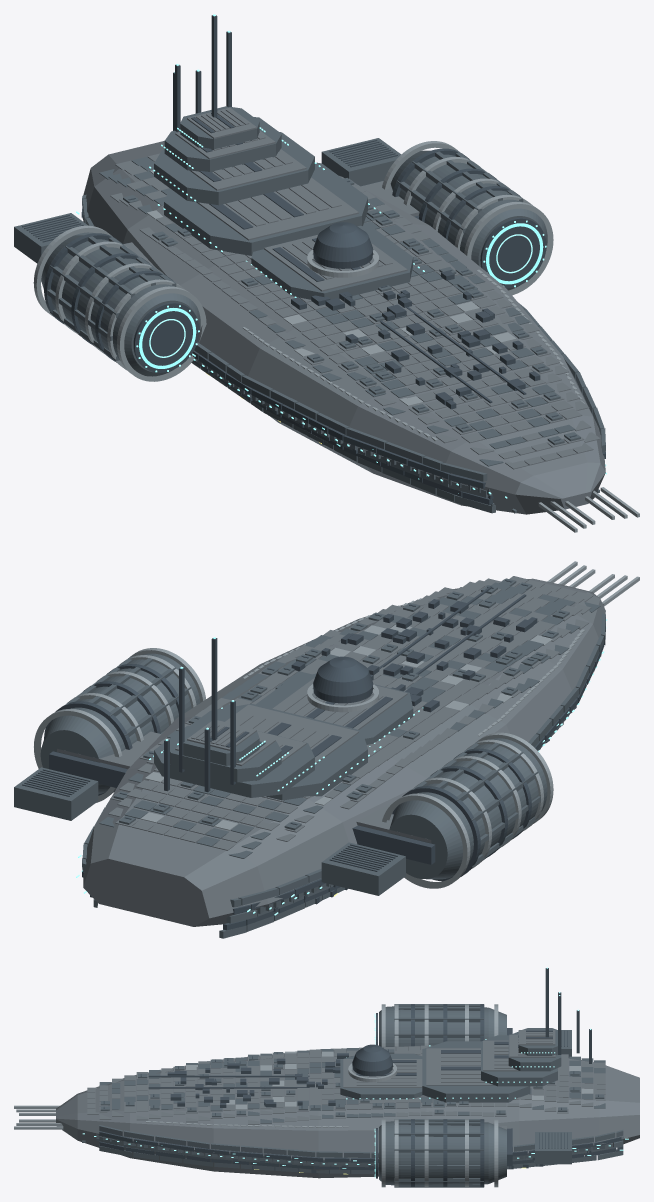
The model's file is ryuken.glb.
3 views of the same model, one above another, from view 1: azimuth 30°, elevation 25°; view 2: azimuth 150°, elevation 25°; view 3: azimuth 270°, elevation 25° (orthographic). The views are drawn at different scales.
Parts seen in each view (by area): view 1: Ryuken_Armor, Ryuken_Titanium, Ryuken_Dark, Ryuken_Edge, Ryuken_EngineCore, Ryuken_BlueWindows; view 2: Ryuken_Armor, Ryuken_Titanium, Ryuken_Dark, Ryuken_Edge, Ryuken_BlueWindows; view 3: Ryuken_Armor, Ryuken_Titanium, Ryuken_Dark, Ryuken_Edge, Ryuken_BlueWindows.
Part boxes in pixels (x1,y1,x2,y2): Ryuken_Armor: (83, 107, 605, 514); Ryuken_Titanium: (14, 106, 605, 513); Ryuken_Dark: (22, 15, 605, 504); Ryuken_Edge: (33, 141, 639, 532); Ryuken_EngineCore: (139, 223, 543, 368); Ryuken_BlueWindows: (76, 14, 606, 498); Ryuken_Armor: (57, 576, 605, 926); Ryuken_Titanium: (14, 578, 605, 938); Ryuken_Dark: (22, 580, 605, 930); Ryuken_Edge: (34, 561, 639, 888); Ryuken_BlueWindows: (76, 619, 607, 915); Ryuken_Armor: (56, 1030, 639, 1178); Ryuken_Titanium: (82, 1004, 623, 1187); Ryuken_Dark: (96, 968, 623, 1186); Ryuken_Edge: (14, 1004, 593, 1187); Ryuken_BlueWindows: (82, 967, 628, 1177).
Size of the model in its own units: 11 by 6.28 by 20.26.
